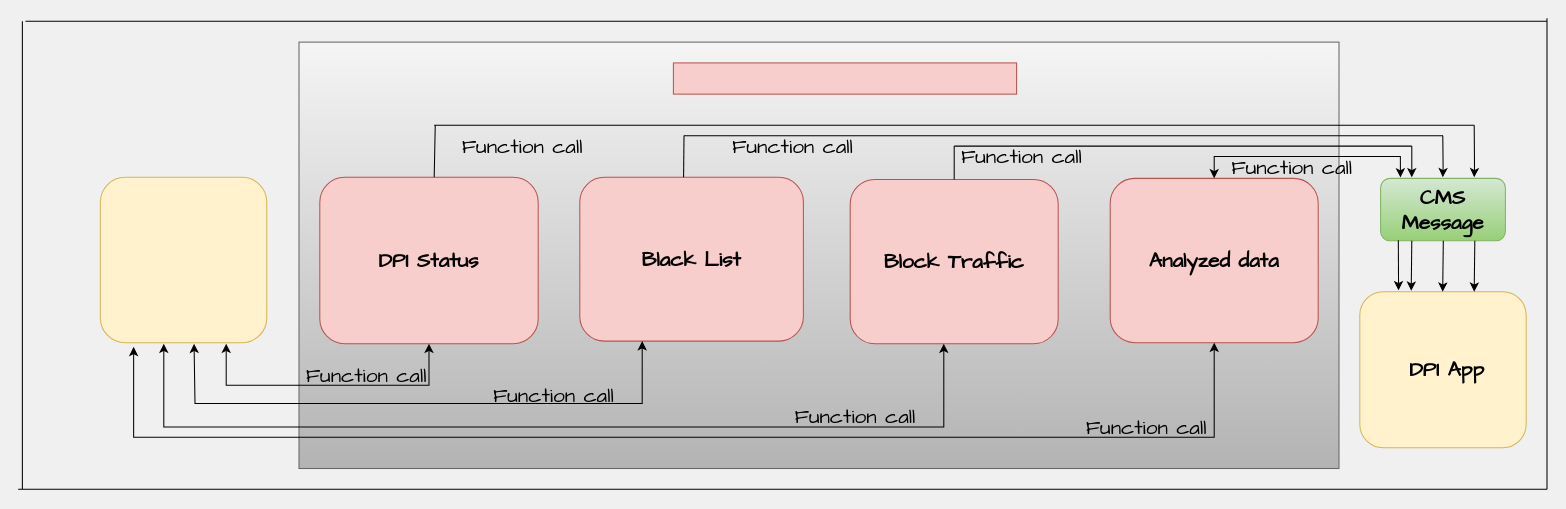
Some shapes in this 1566 by 509 pixel diagram are drawn without their labels. The shapes that lost their labels are listed below. From the top down, each one's box as (x1, y1, x2, y2) in pixels, then its label:
(672, 62, 1017, 94): Remote Control Service Client
(99, 176, 267, 343): WedUI
